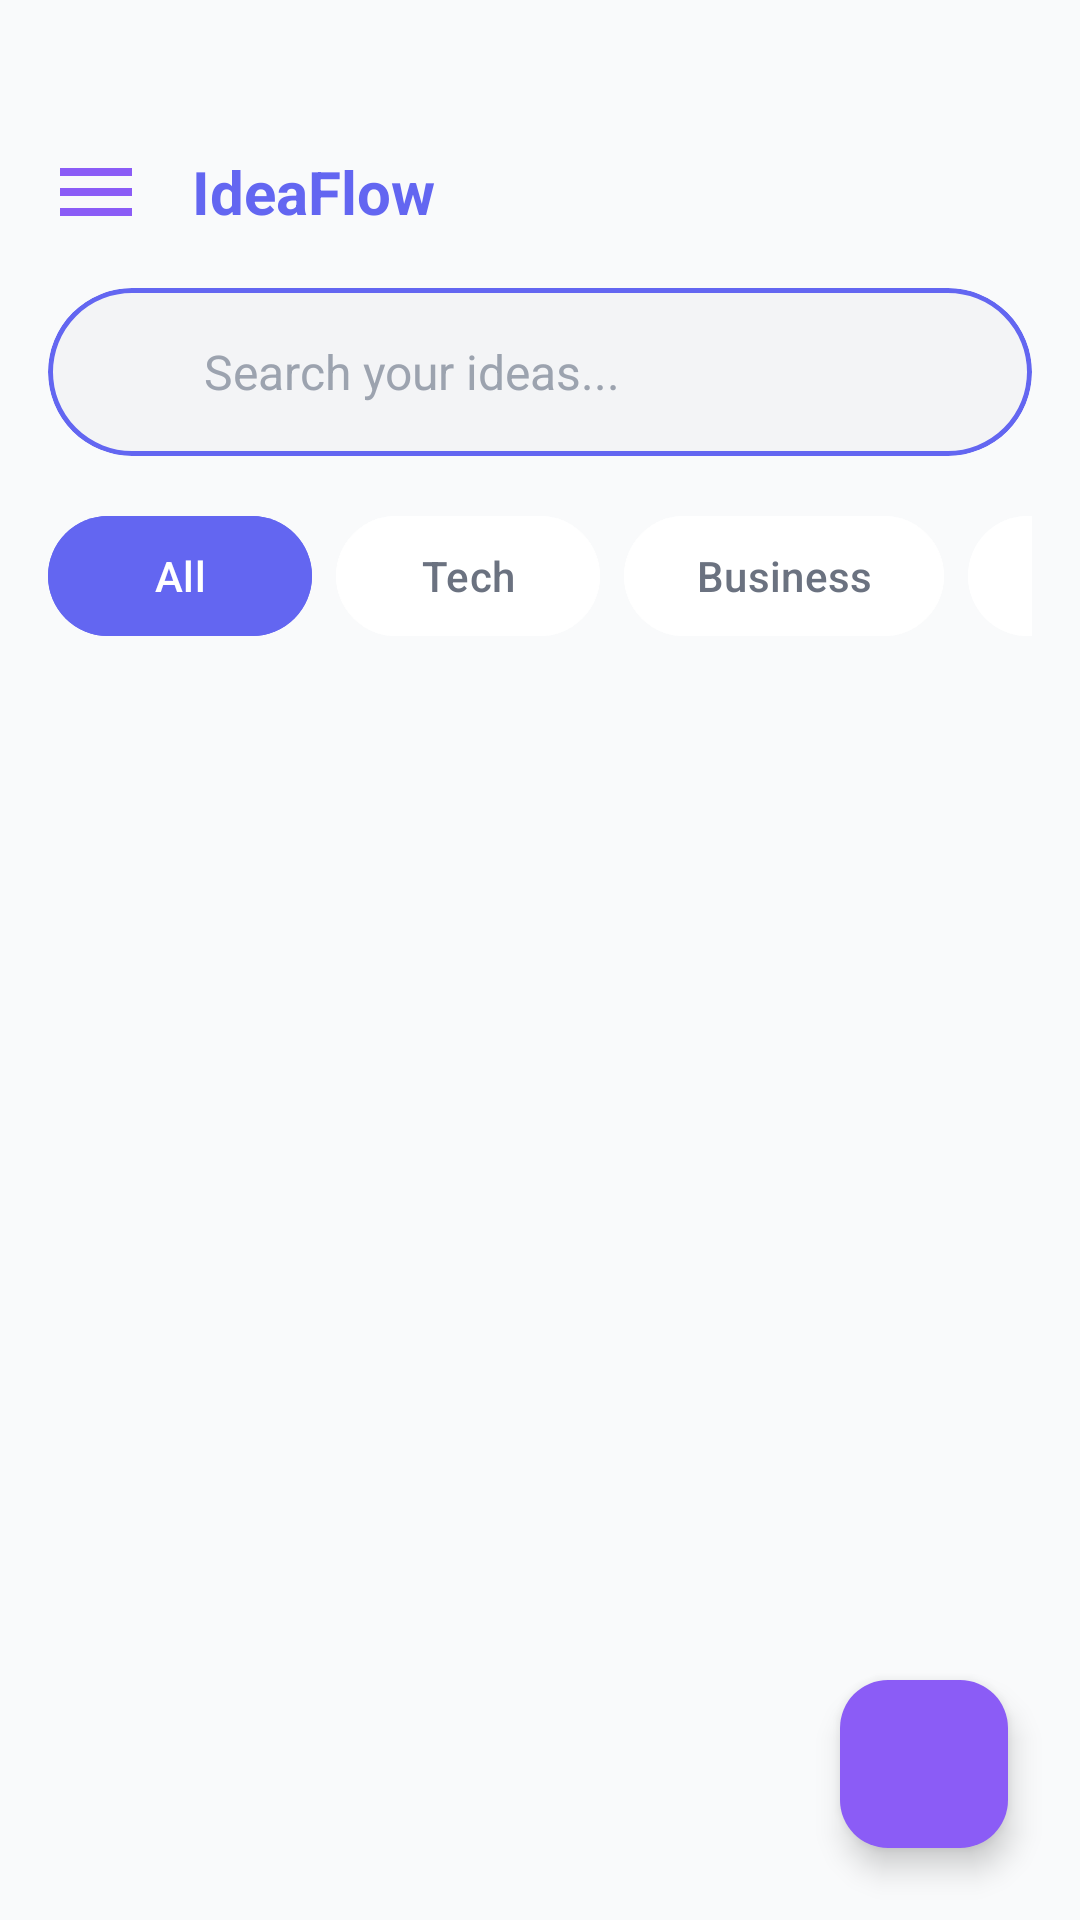

Icon bounding boxes for this 1080*1920 phone screenshot, format (x1, y1, x2, y2):
menu: (60, 168, 132, 216)
